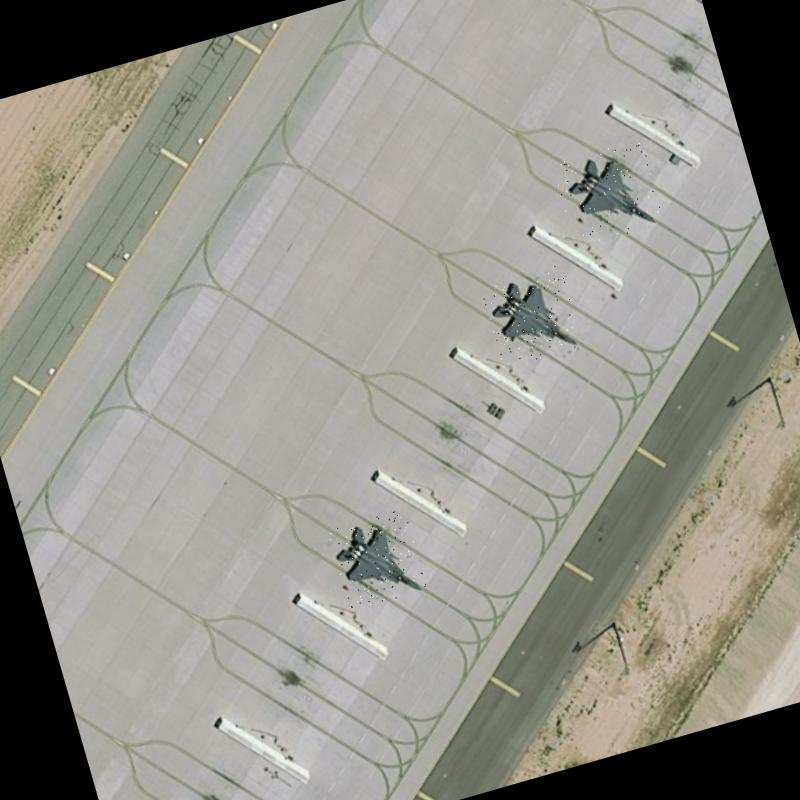A5: (550, 138, 667, 249), (480, 264, 583, 368), (327, 508, 427, 611)
